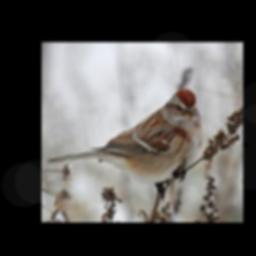Sparrow: (46, 87, 204, 200)
